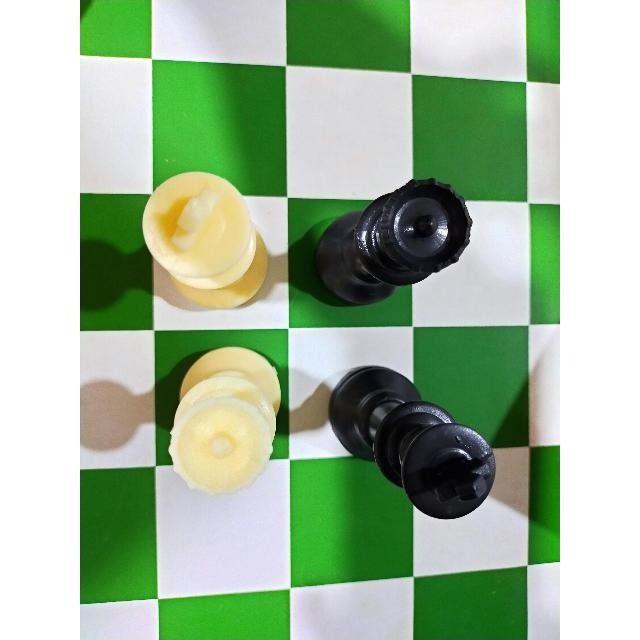black-king: (322, 354, 497, 527)
black-queen: (308, 172, 478, 314)
white-king: (135, 169, 283, 315)
white-queen: (163, 339, 289, 493)
